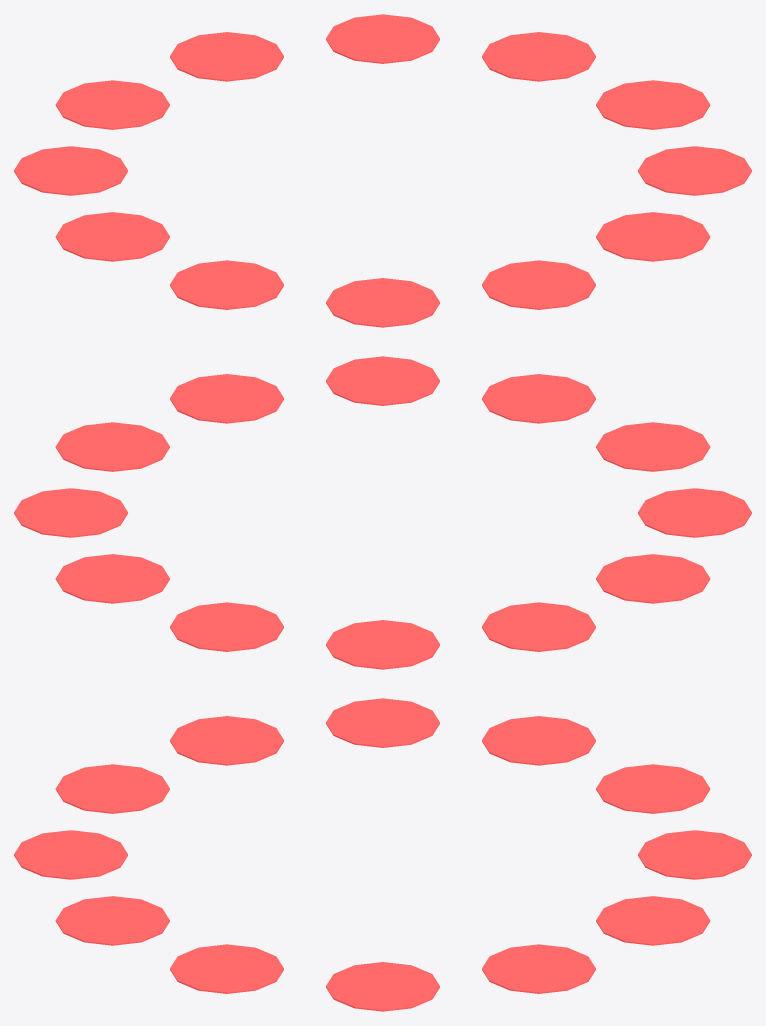
File: prop_gut_slots.glb
3 renders of one model, top to bottom at view 1: azimuth 30°, elevation 25°; view 2: azimuth 150°, elevation 25°; view 3: azimuth 270°, elevation 25°, orthographic.
Parts seen in each view (by area): view 1: Slot_04, Slot_06, Slot_10, Slot_12, Slot_02, Slot_05, Slot_08, Slot_11, Slot_01, Slot_03, Slot_07, Slot_09; view 2: Slot_02, Slot_04, Slot_08, Slot_10, Slot_03, Slot_06, Slot_09, Slot_12, Slot_01, Slot_05, Slot_07, Slot_11; view 3: Slot_02, Slot_06, Slot_08, Slot_12, Slot_01, Slot_04, Slot_07, Slot_10, Slot_03, Slot_05, Slot_09, Slot_11.
Part boxes in pixels (left/top/right/bottom): Slot_04: left=596, top=80, right=710, bottom=129; Slot_06: left=596, top=212, right=710, bottom=261; Slot_10: left=55, top=212, right=169, bottom=261; Slot_12: left=55, top=80, right=169, bottom=129; Slot_02: left=326, top=14, right=439, bottom=63; Slot_05: left=638, top=146, right=751, bottom=195; Slot_08: left=326, top=278, right=439, bottom=327; Slot_11: left=14, top=146, right=127, bottom=195; Slot_01: left=170, top=32, right=283, bottom=81; Slot_03: left=482, top=32, right=595, bottom=81; Slot_07: left=482, top=260, right=595, bottom=309; Slot_09: left=170, top=260, right=283, bottom=309; Slot_02: left=55, top=554, right=169, bottom=603; Slot_04: left=55, top=422, right=169, bottom=471; Slot_08: left=596, top=422, right=710, bottom=471; Slot_10: left=596, top=554, right=710, bottom=603; Slot_03: left=14, top=488, right=127, bottom=537; Slot_06: left=326, top=356, right=439, bottom=405; Slot_09: left=638, top=488, right=751, bottom=537; Slot_12: left=326, top=620, right=439, bottom=669; Slot_01: left=170, top=602, right=283, bottom=651; Slot_05: left=170, top=374, right=283, bottom=423; Slot_07: left=482, top=374, right=595, bottom=423; Slot_11: left=482, top=602, right=595, bottom=651; Slot_02: left=596, top=896, right=710, bottom=945; Slot_06: left=55, top=896, right=169, bottom=945; Slot_08: left=55, top=764, right=169, bottom=813; Slot_12: left=596, top=764, right=710, bottom=813; Slot_01: left=638, top=830, right=751, bottom=879; Slot_04: left=326, top=962, right=439, bottom=1011; Slot_07: left=14, top=830, right=127, bottom=879; Slot_10: left=326, top=698, right=439, bottom=747; Slot_03: left=482, top=944, right=595, bottom=993; Slot_05: left=170, top=944, right=283, bottom=993; Slot_09: left=170, top=716, right=283, bottom=765; Slot_11: left=482, top=716, right=595, bottom=765.
Size of the model in its own units: 9.7 by 0.02 by 9.7.
